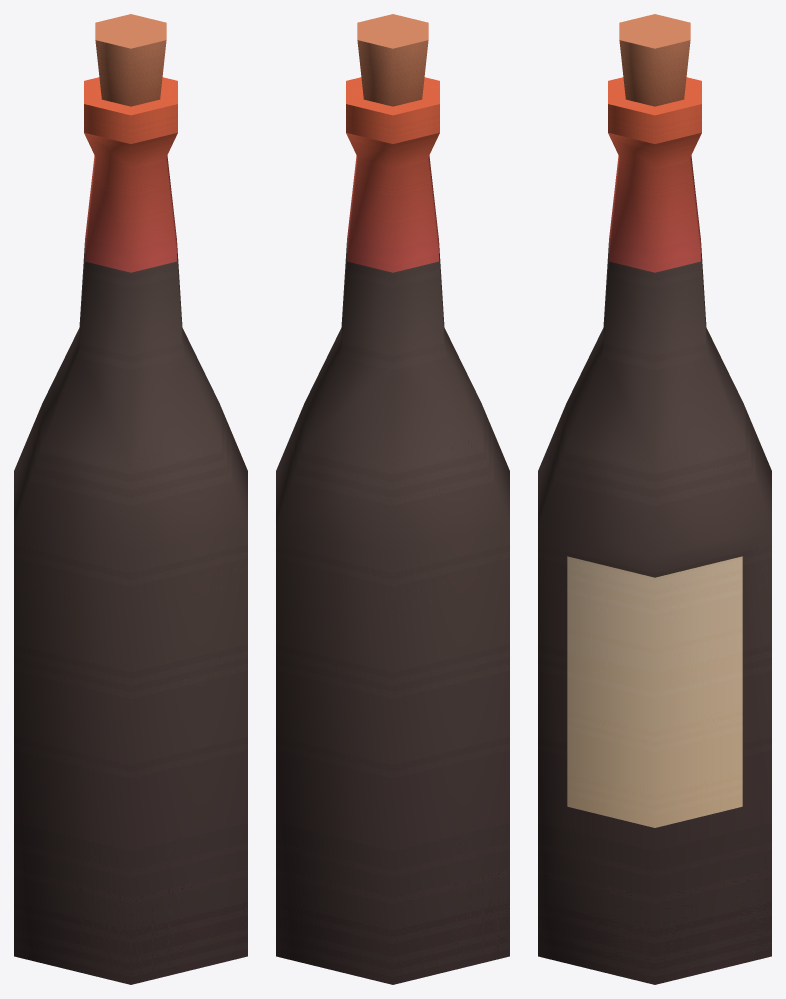
File: wine-red.glb
3 views of the same model, side by side, from view 1: azimuth 30°, elevation 25°; view 2: azimuth 150°, elevation 25°; view 3: azimuth 270°, elevation 25° (orthographic).
Visible parts, largest first — view 1: wine-red; view 2: wine-red; view 3: wine-red.
Part boxes in pixels (<box>): wine-red: <box>14,14,247,984</box>; wine-red: <box>276,14,509,984</box>; wine-red: <box>538,14,771,984</box>.
Bounding box in the file's own units: 0.1908 × 0.6989 × 0.1652.
1 material, 1 textured.
